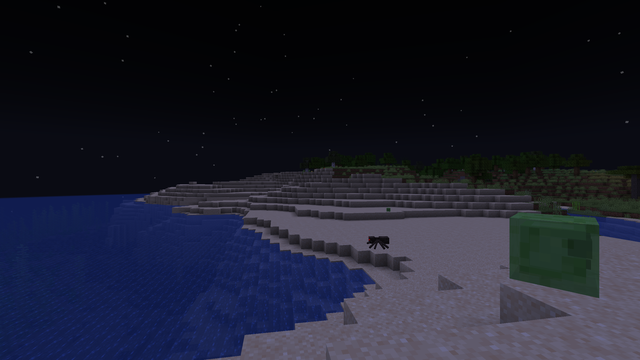araignees: (366, 233, 388, 248)
slimes: (498, 210, 618, 293), (386, 207, 390, 211)
